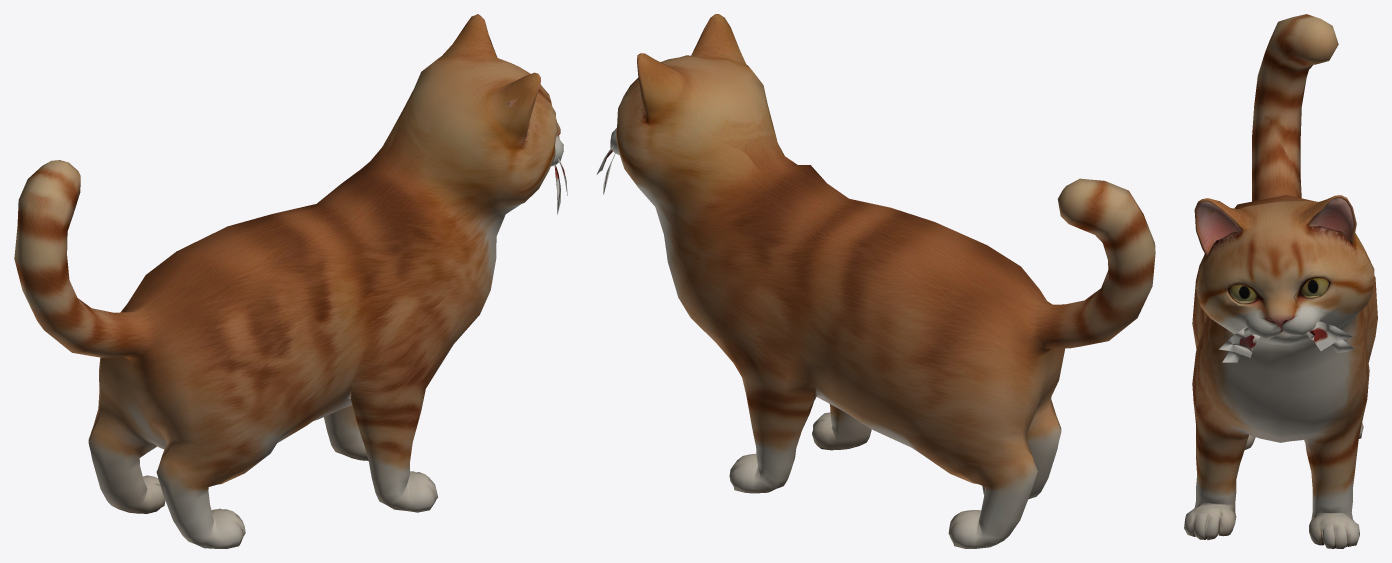
File: d99cd689-c954-4cc4-bca2-da773b7b07a3_model.glb
3 views of the same model, side by side, from view 1: azimuth 30°, elevation 25°; view 2: azimuth 150°, elevation 25°; view 3: azimuth 270°, elevation 25° (orthographic). The views are drawn at different scales.
Parts seen in each view (by area): view 1: tripo_node_ac3f4397-a6d7-48a1-8c53-8310325d8838; view 2: tripo_node_ac3f4397-a6d7-48a1-8c53-8310325d8838; view 3: tripo_node_ac3f4397-a6d7-48a1-8c53-8310325d8838.
Boxes of the visible parts, bbox=[...] form: tripo_node_ac3f4397-a6d7-48a1-8c53-8310325d8838: bbox=[14, 14, 567, 548]; tripo_node_ac3f4397-a6d7-48a1-8c53-8310325d8838: bbox=[596, 14, 1155, 548]; tripo_node_ac3f4397-a6d7-48a1-8c53-8310325d8838: bbox=[1184, 14, 1377, 548].
Bounding box in the file's own units: 0.998 × 0.7246 × 0.3184.
1 material, 1 textured.
